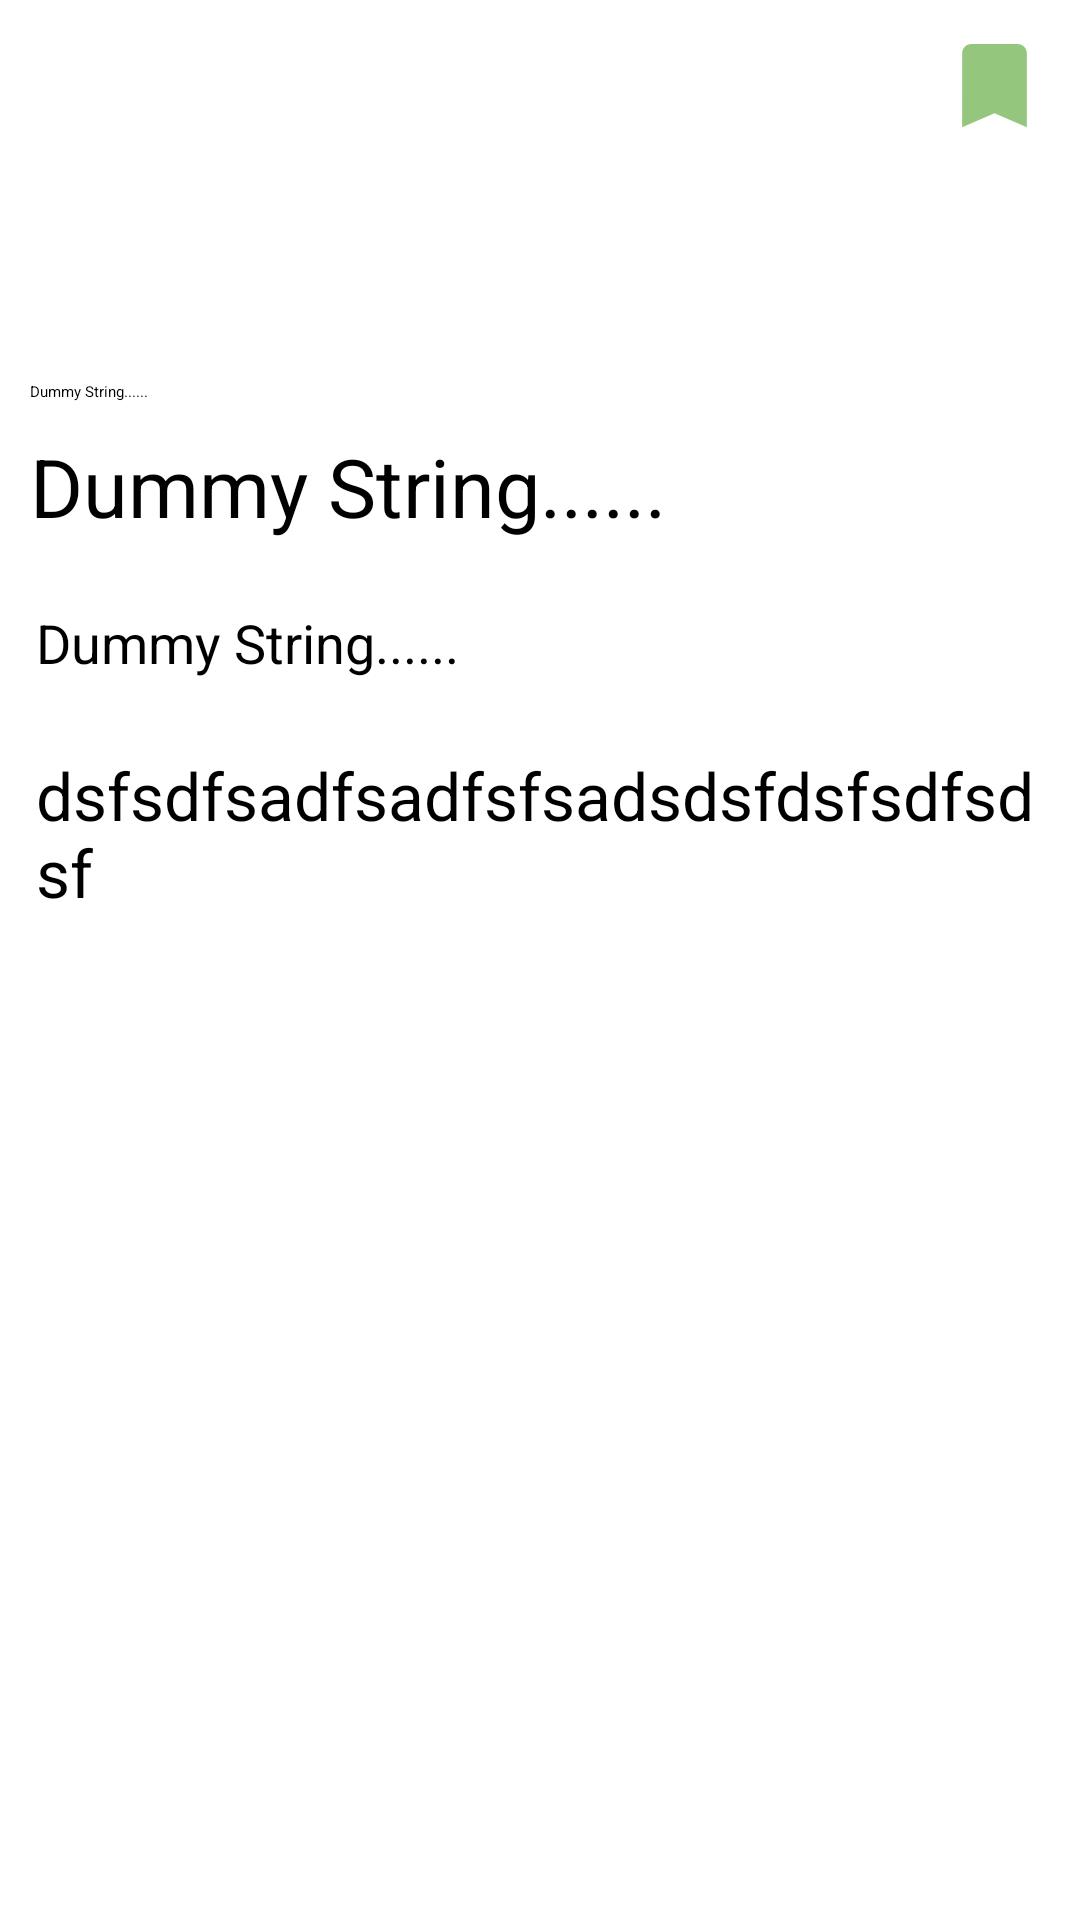

Named icons in this screenshot (1080x1920) and their centers, point (x, y):
bookmark: point (994, 85)
